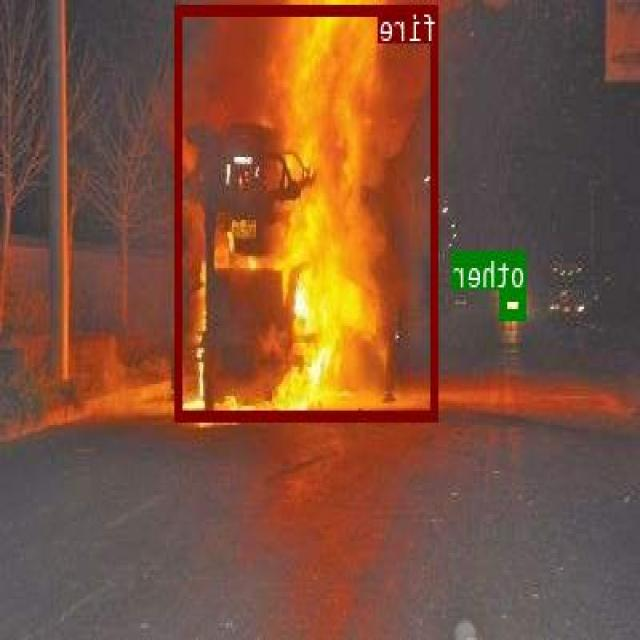fire: (176, 4, 438, 419)
other: (502, 290, 528, 317)
